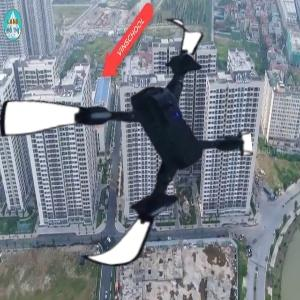drone: (1, 18, 253, 270)
